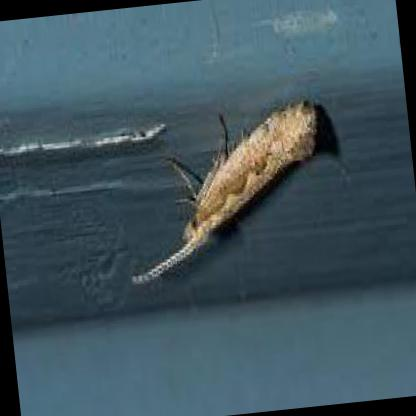plutella: (121, 91, 322, 293)
